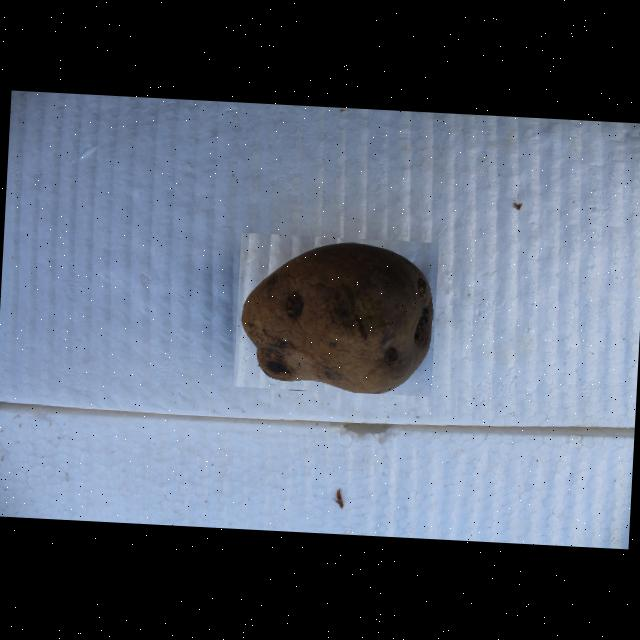Diseased-fungal potato: (233, 233, 440, 397)
